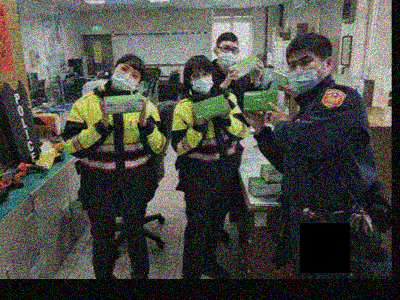with_mask: (286, 54, 325, 94), (110, 64, 140, 94), (189, 70, 214, 95), (216, 44, 239, 69)
